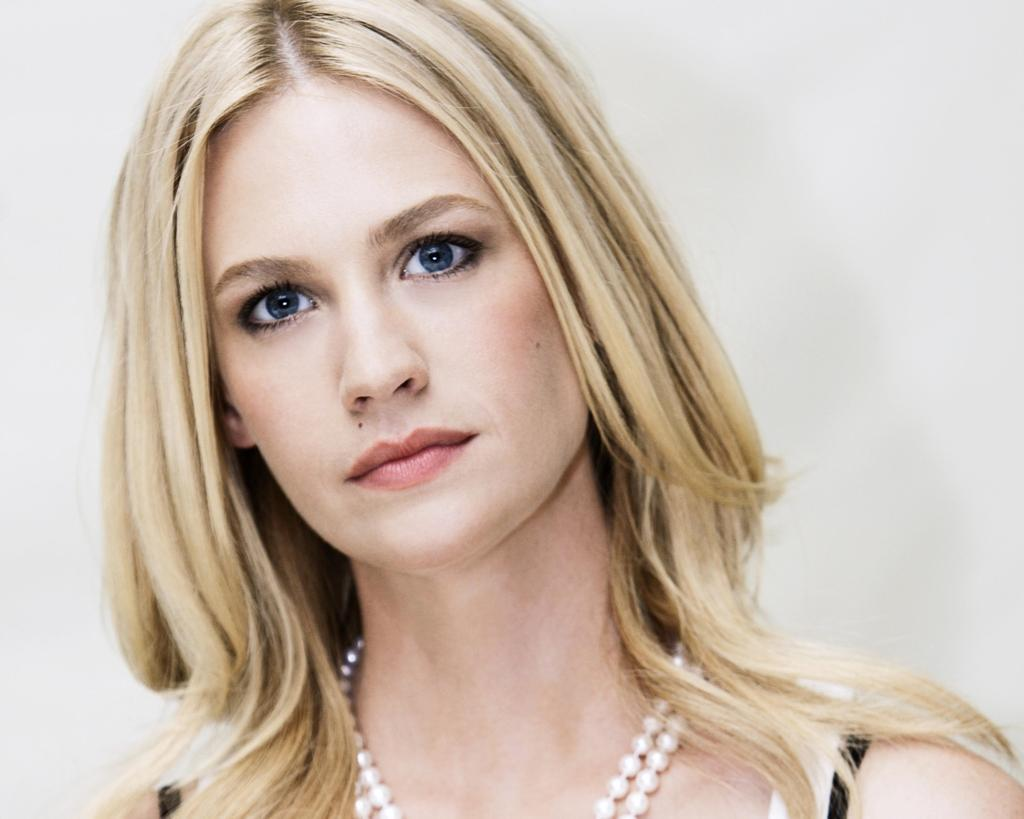face: (205, 91, 593, 557)
